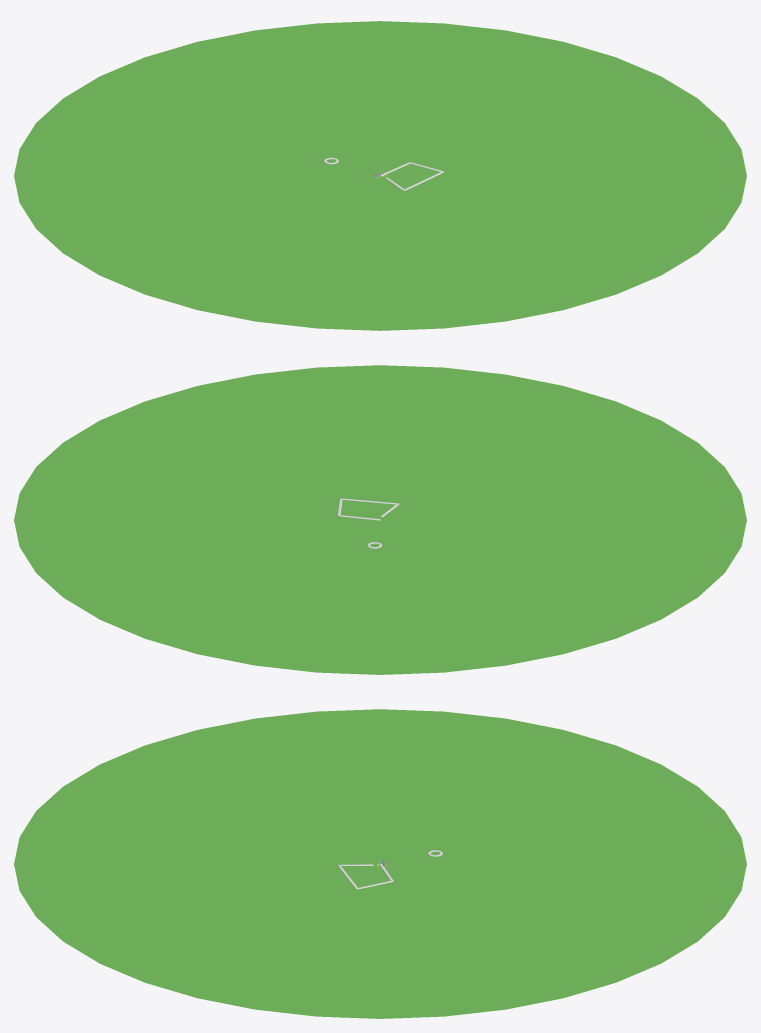
The model's file is GroundVar1.fbx.
3 renders of one model, top to bottom at view 1: azimuth 30°, elevation 25°; view 2: azimuth 150°, elevation 25°; view 3: azimuth 270°, elevation 25°, orthographic.
Visible parts, largest first — view 1: Circle; view 2: Circle; view 3: Circle.
Part boxes in pixels (<box>): Circle: <box>14,21,746,330</box>; Circle: <box>14,365,746,674</box>; Circle: <box>14,709,746,1018</box>.
Size of the model in its own units: 120 by 5.29 by 120.
